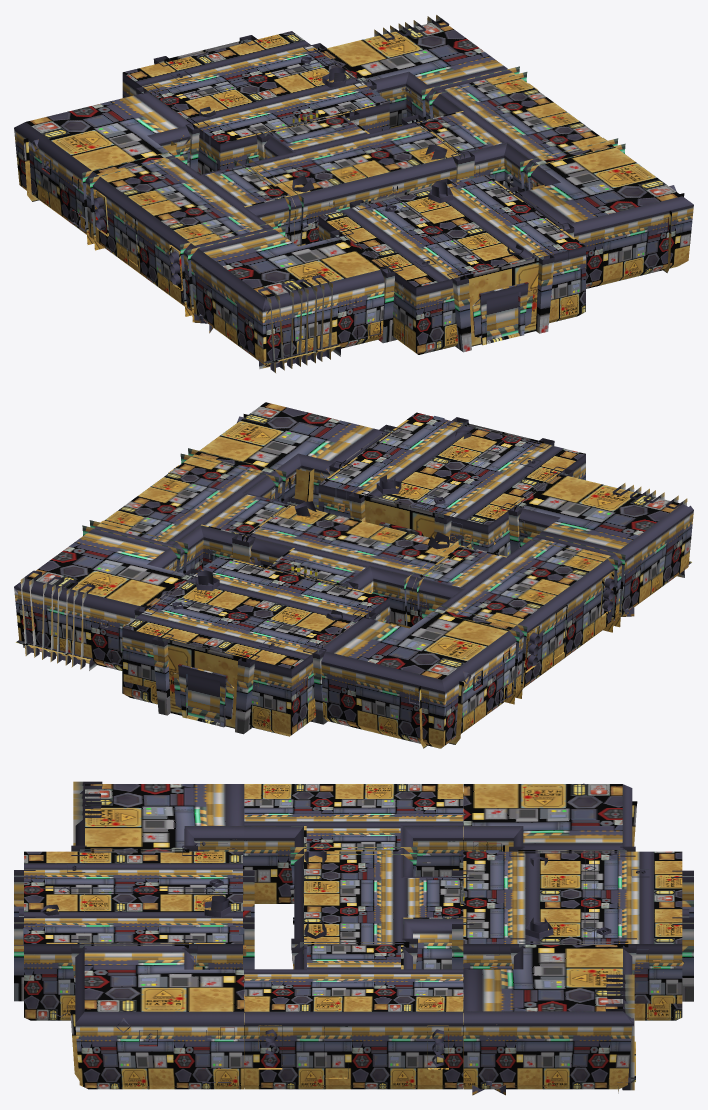
File: Combined_Mesh_root_scene__21_87b8b529__zombies2_diffuse_04_b80f3c78_c1f257.obj
3 views of the same model, one above another, from view 1: azimuth 30°, elevation 25°; view 2: azimuth 150°, elevation 25°; view 3: azimuth 270°, elevation 25° (orthographic). The views are drawn at different scales.
Bounding box in the file's own units: 52.07 × 9.64 × 62.1.
Materials: 148 (148 with a texture image).
